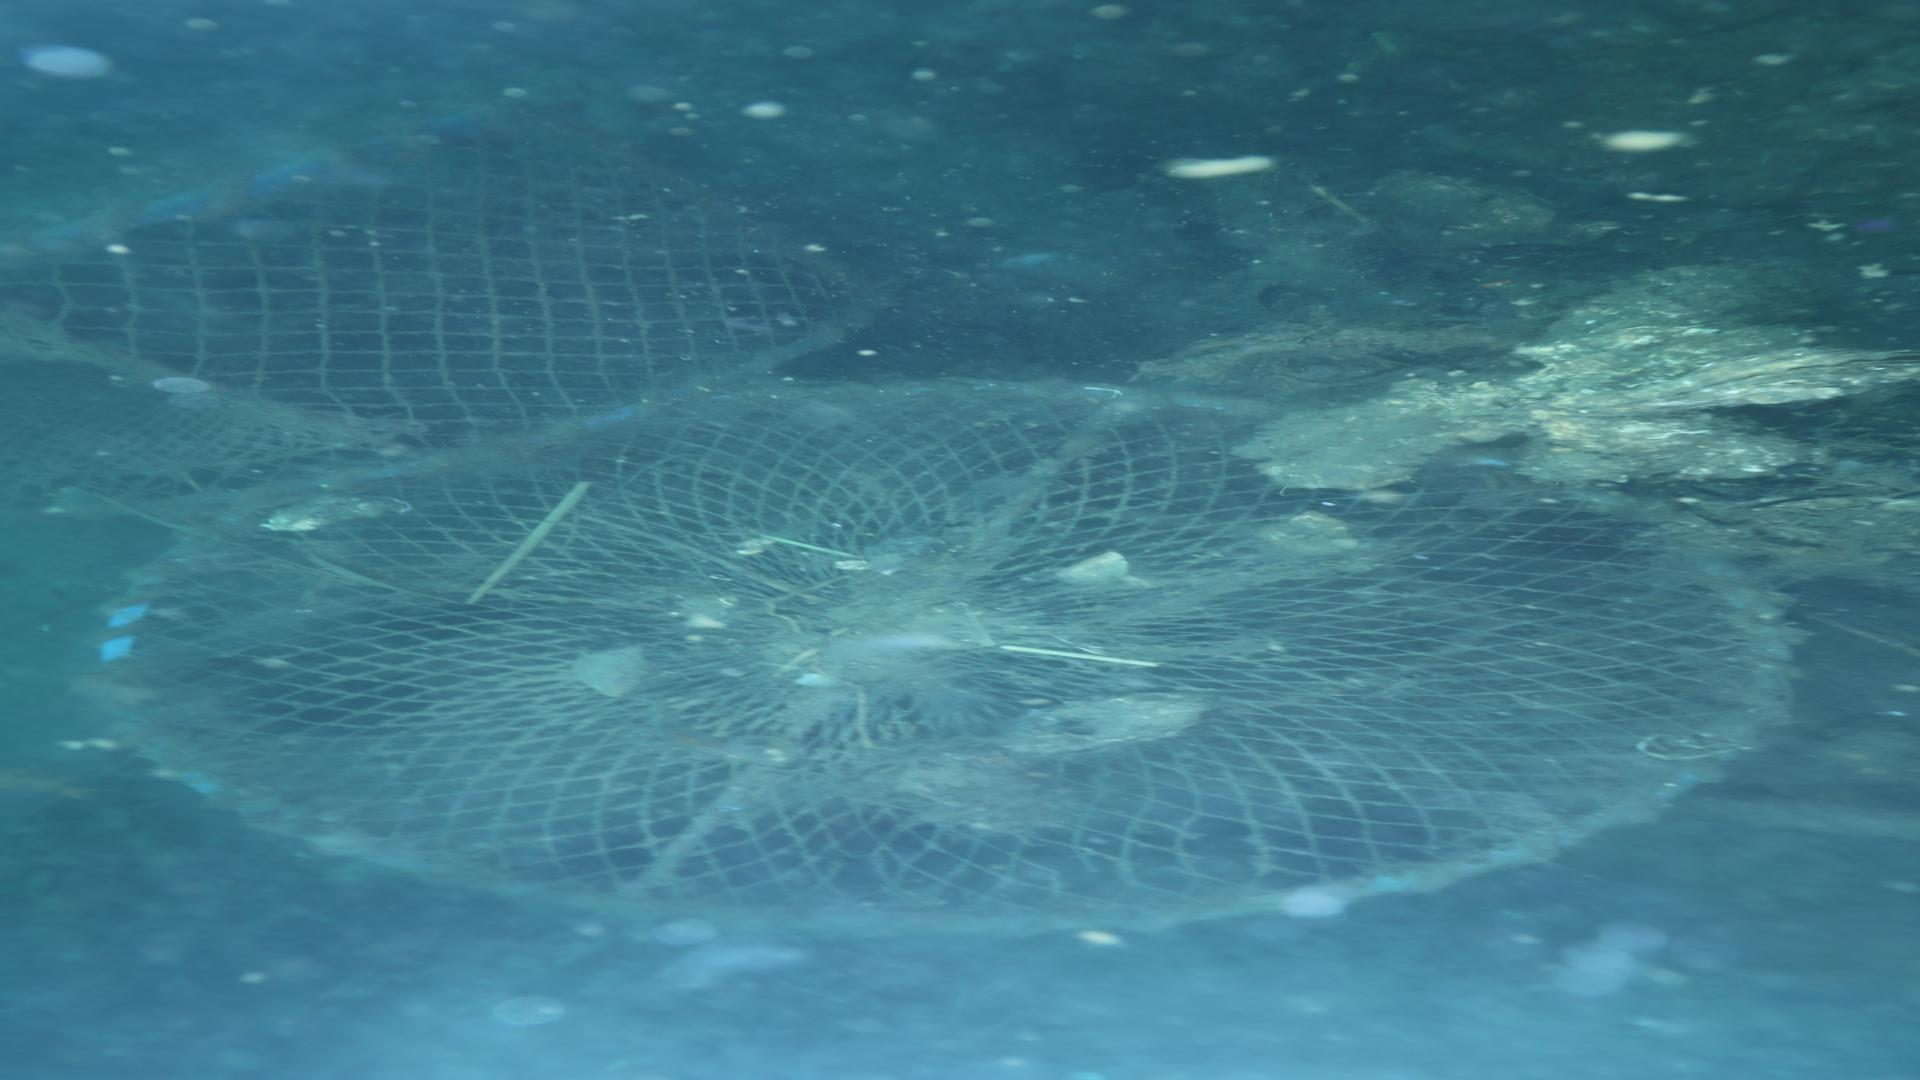circular fish trap: (98, 375, 1796, 934), (0, 94, 918, 520)
